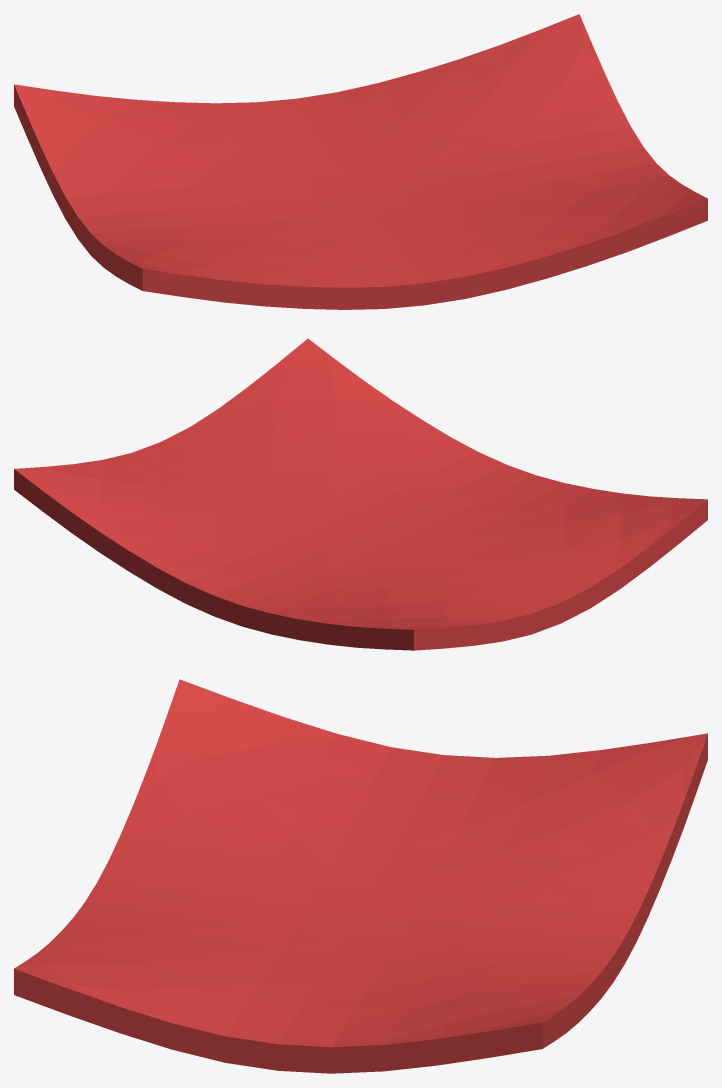
The model's file is sweethome3d-scopia-sushi-tray-15.glb.
The picture shows the model from 3 angles, top to bottom: view 1: azimuth 30°, elevation 25°; view 2: azimuth 150°, elevation 25°; view 3: azimuth 270°, elevation 25°; orthographic projection. The views are drawn at different scales.
Visible parts, largest first — view 1: abstract_Cube.002; view 2: abstract_Cube.002; view 3: abstract_Cube.002.
Part boxes in pixels (<box>): abstract_Cube.002: <box>14,14,707,309</box>; abstract_Cube.002: <box>14,338,707,650</box>; abstract_Cube.002: <box>14,679,707,1073</box>.
Size of the model in its own units: 0.3638 by 0.0448 by 0.3108.
